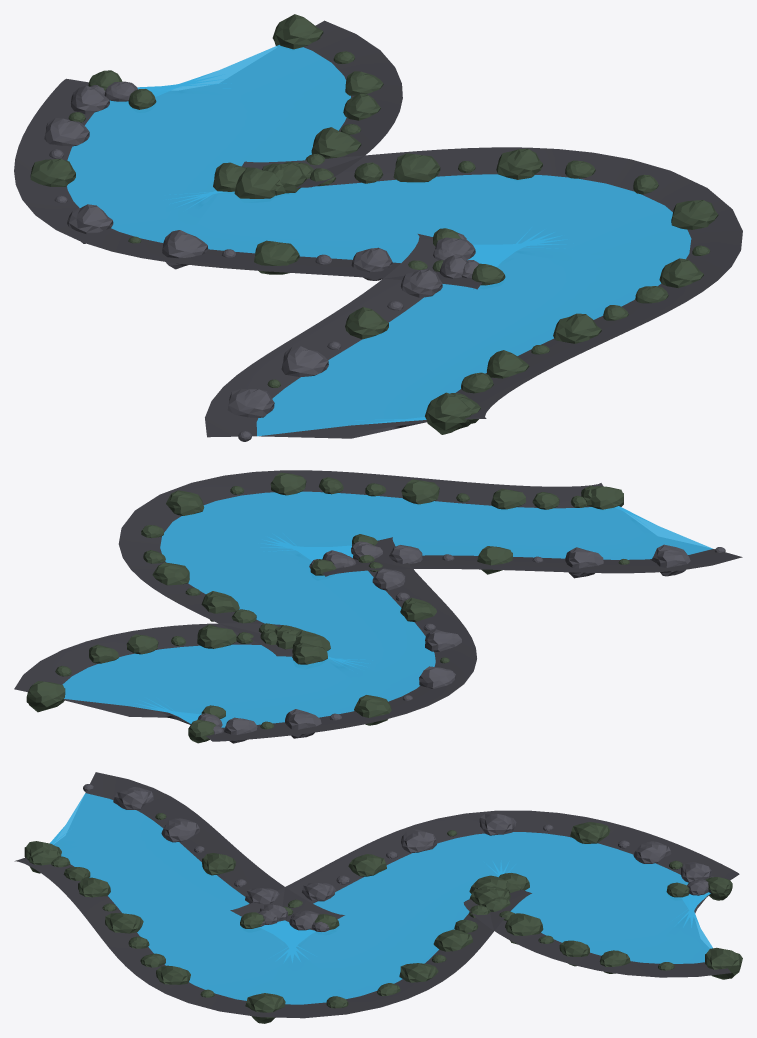
The model's file is stream_winding_river_01.glb.
3 views of the same model, one above another, from view 1: azimuth 30°, elevation 25°; view 2: azimuth 150°, elevation 25°; view 3: azimuth 270°, elevation 25° (orthographic). The views are drawn at different scales.
Visible parts, largest first — view 1: Stream_Winding_River_Double_Wave; view 2: Stream_Winding_River_Double_Wave; view 3: Stream_Winding_River_Double_Wave.
Boxes of the visible parts, x1=… form: Stream_Winding_River_Double_Wave: x1=14, y1=14, x2=742, y2=441; Stream_Winding_River_Double_Wave: x1=14, y1=470, x2=742, y2=743; Stream_Winding_River_Double_Wave: x1=14, y1=772, x2=742, y2=1023.
Size of the model in its own units: 11.92 by 0.6425 by 14.92.
